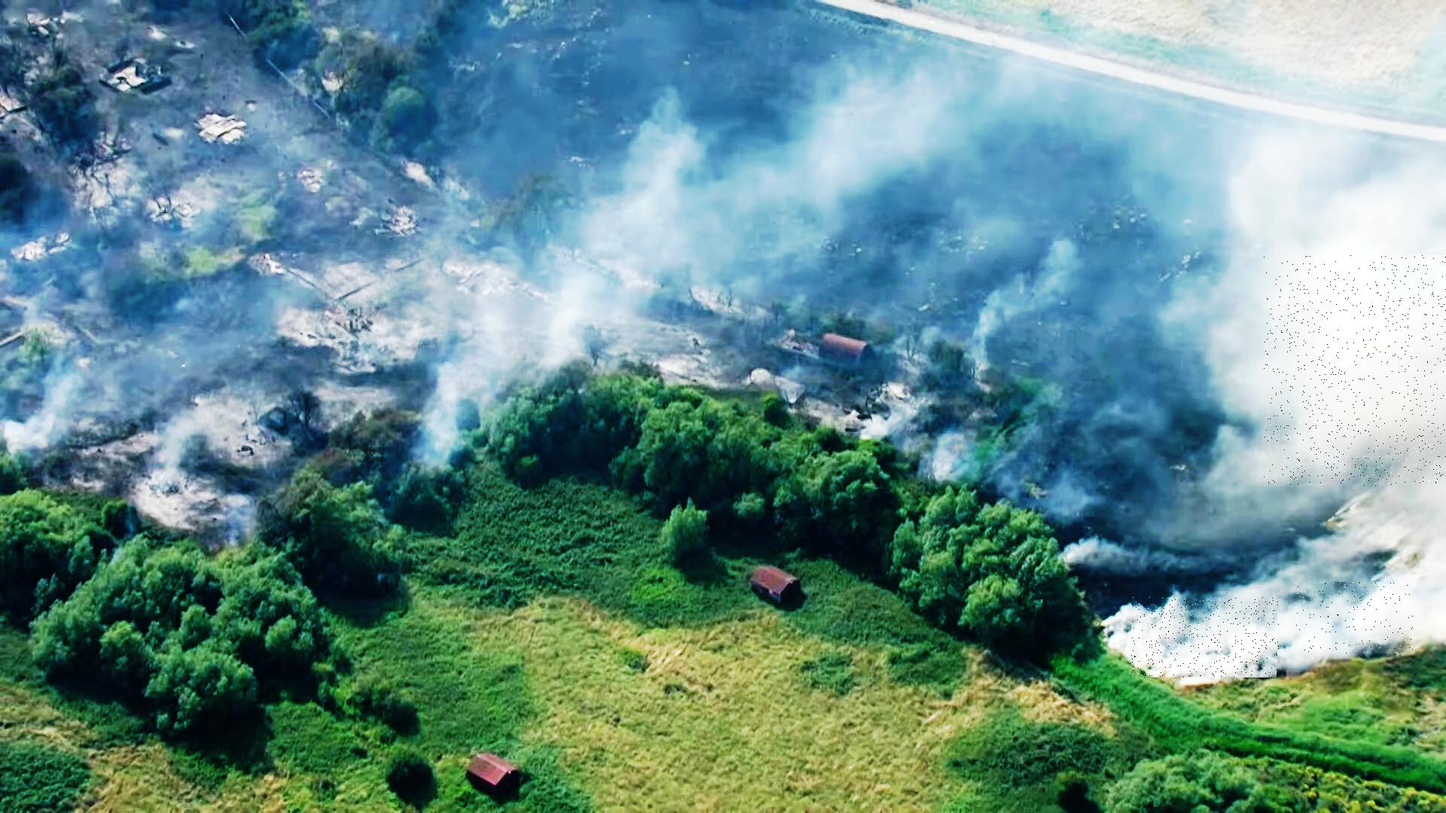smoke: (1264, 255, 1446, 486), (1132, 597, 1279, 678), (1294, 582, 1413, 654)
